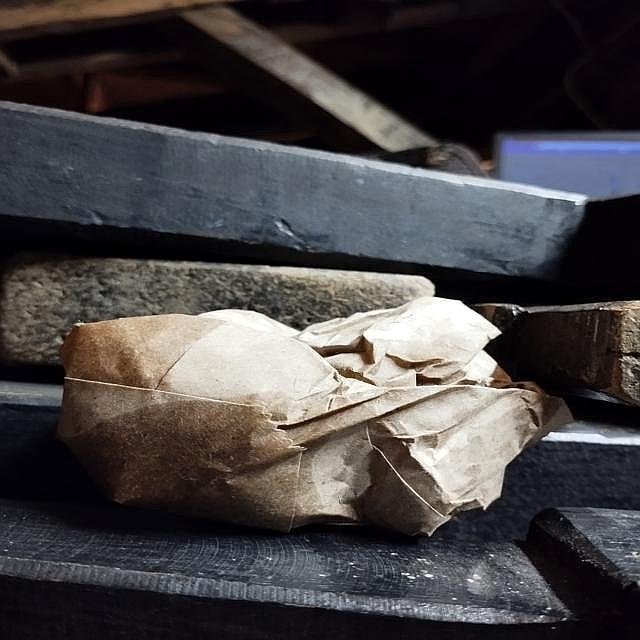Biodegradable: (65, 301, 566, 540)
